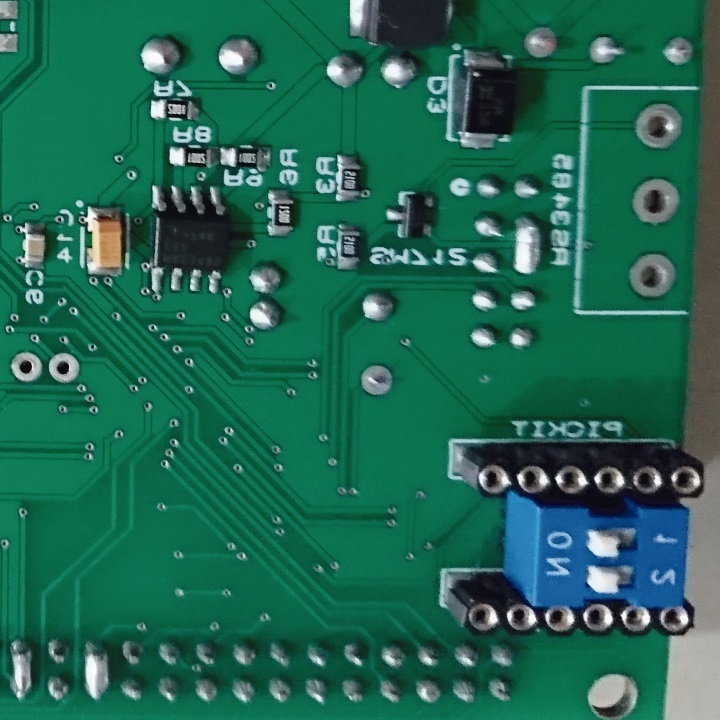F: (625, 250, 679, 303), (630, 176, 681, 230), (633, 102, 684, 152), (523, 23, 560, 64), (360, 362, 396, 401), (660, 33, 696, 71), (9, 348, 45, 386), (586, 32, 627, 65), (47, 352, 80, 386)
P: (512, 209, 544, 280), (83, 632, 113, 706), (7, 632, 38, 703)
